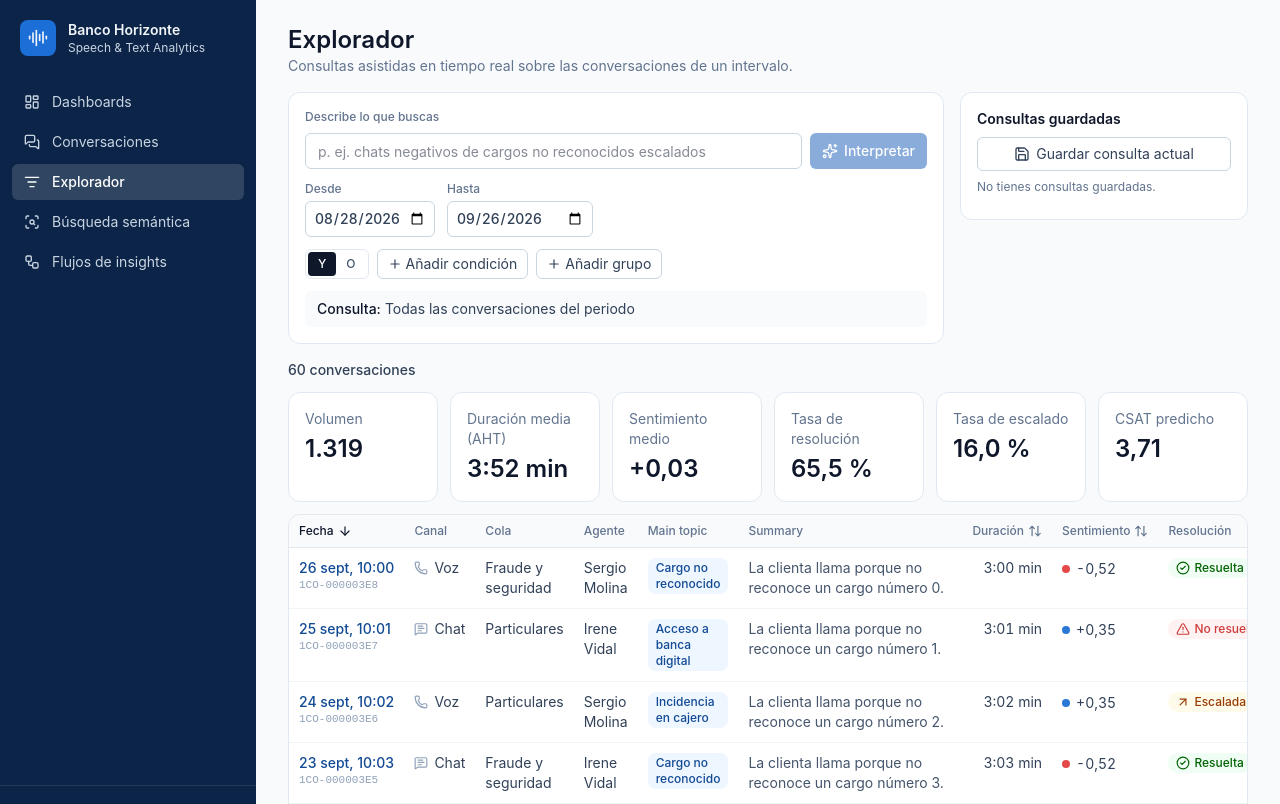
Test: constructor de consultas › añadir una condición la ejecuta, la describe y la guarda en la URL
The width and height of the screenshot is (1280, 804).
Expected: the heading "Explorador" is shown, [288, 25, 414, 54]
Click the button "Añadir condición": [452, 264] box [377, 249, 528, 279]
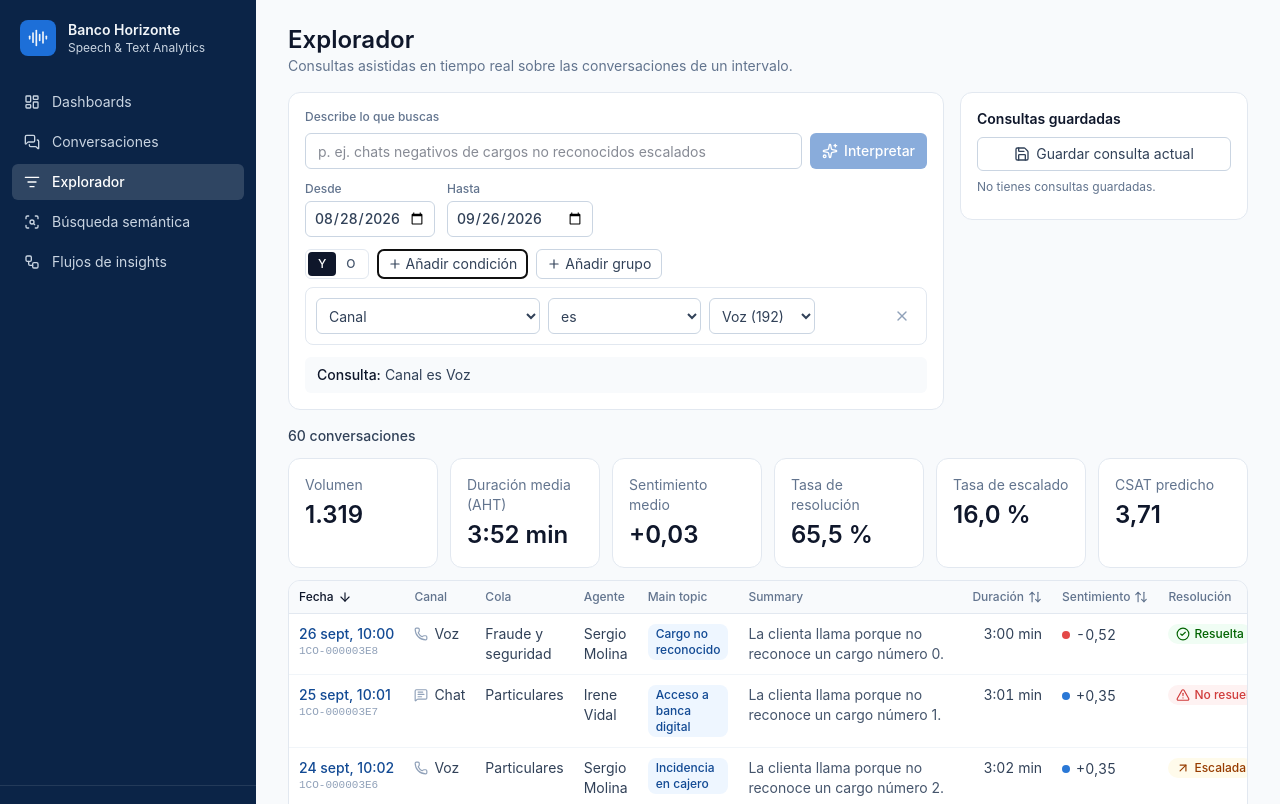
Result: the text "Canal es Voz" is shown at [385, 366, 471, 383]
